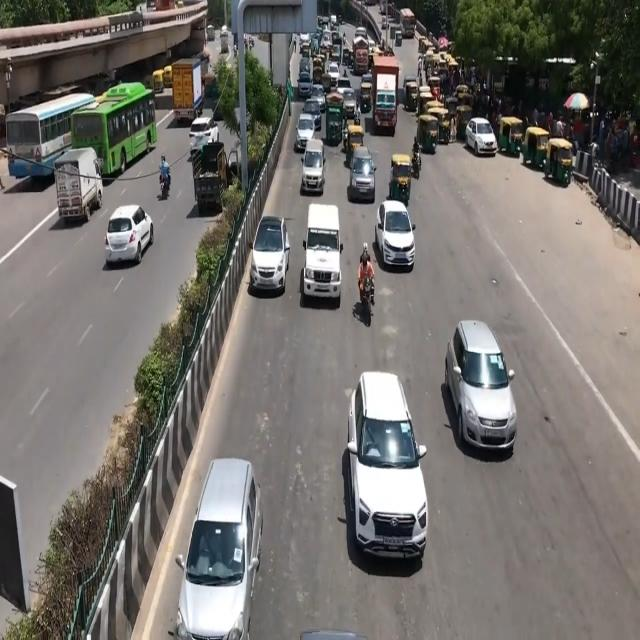Bike: (355, 242, 377, 328)
Truck: (371, 53, 399, 136)
